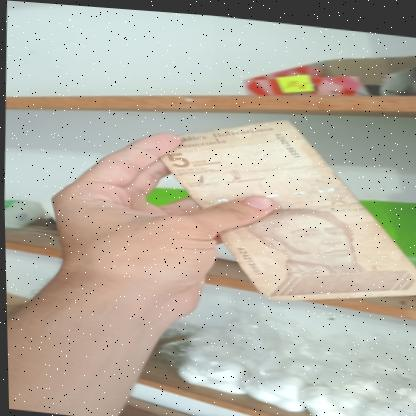vef_front: (153, 102, 416, 309)
